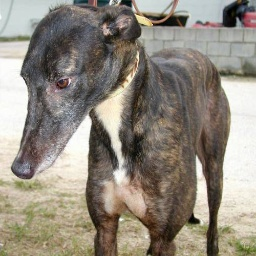dog: (11, 4, 227, 255)
